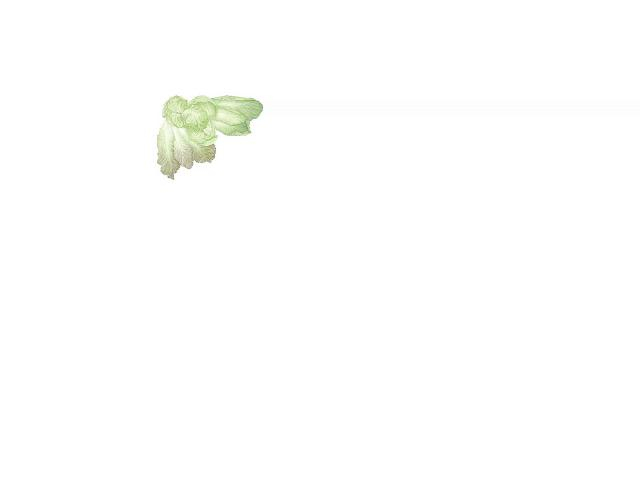lettuce: (155, 89, 263, 184)
